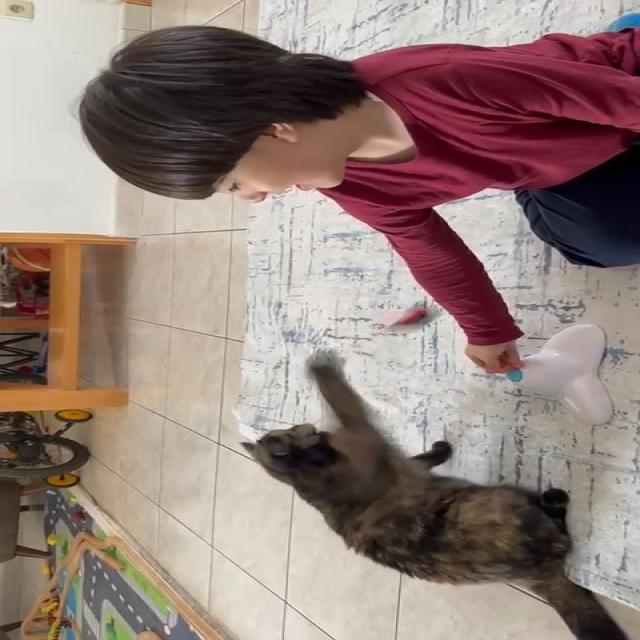authorized: (240, 347, 629, 639)
